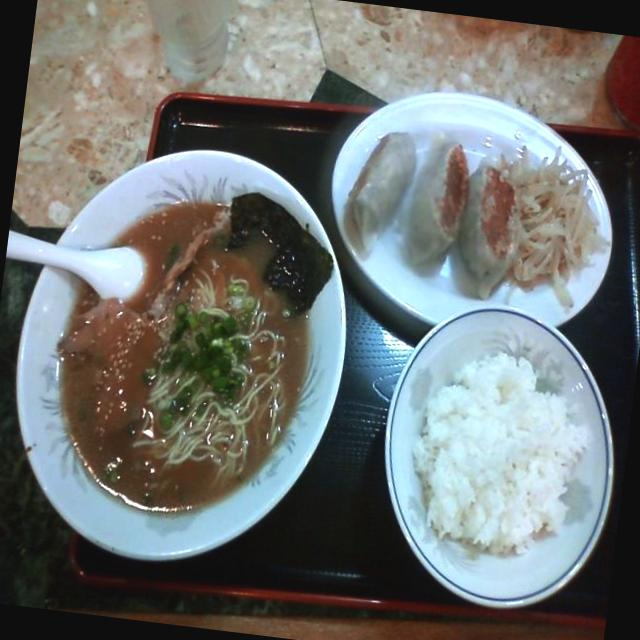Rice: (384, 322, 610, 584)
